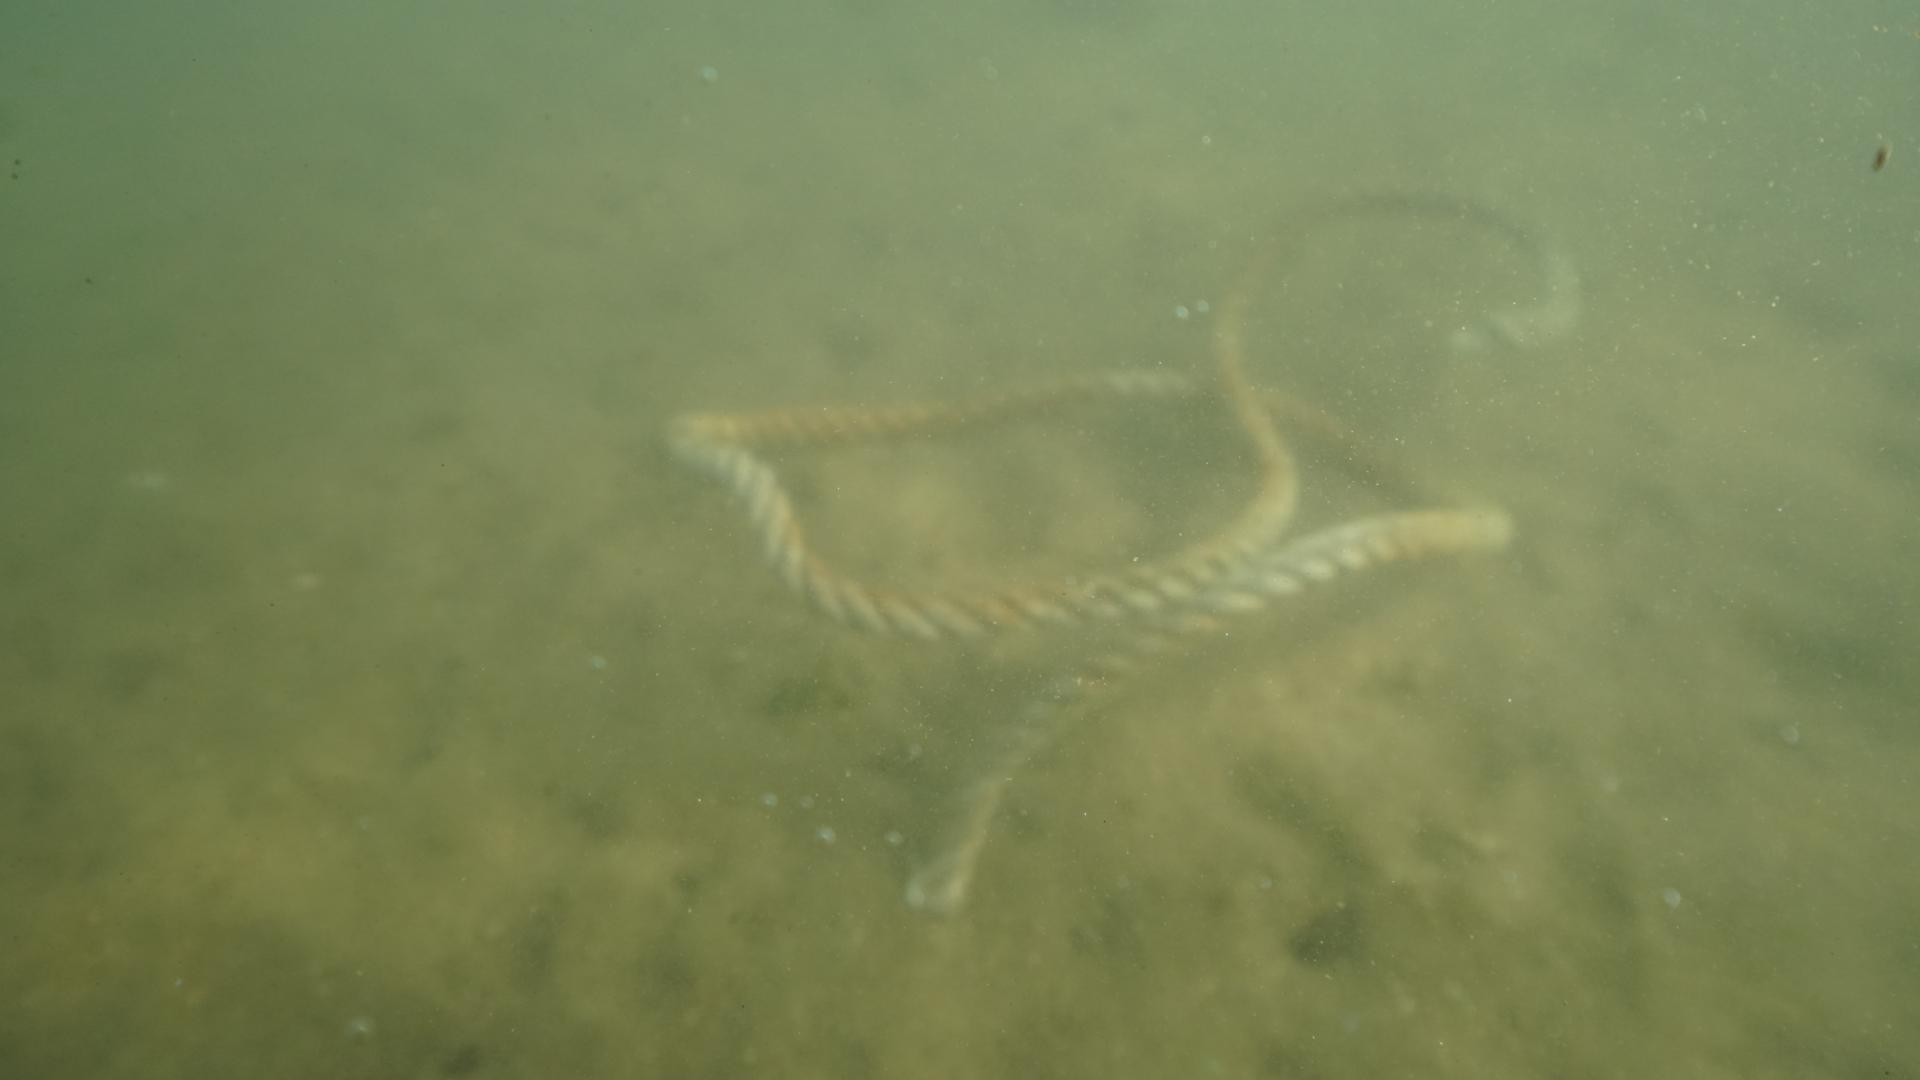bundle of ropes: (662, 179, 1576, 913)
